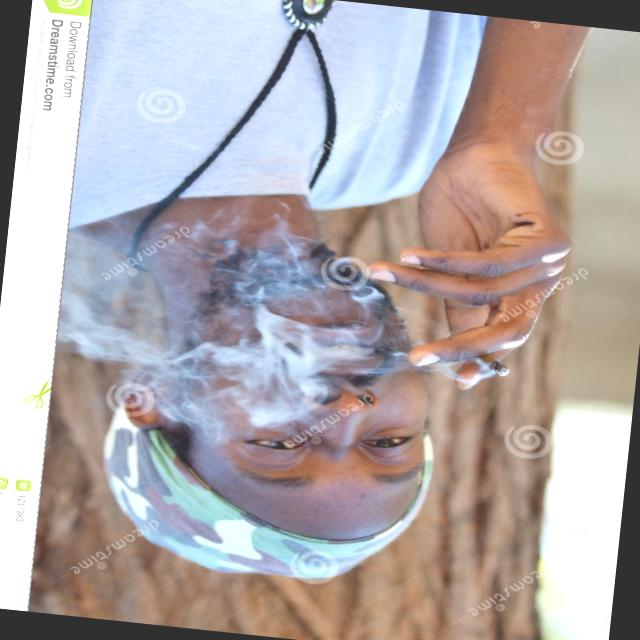smoke: (432, 324, 546, 393)
